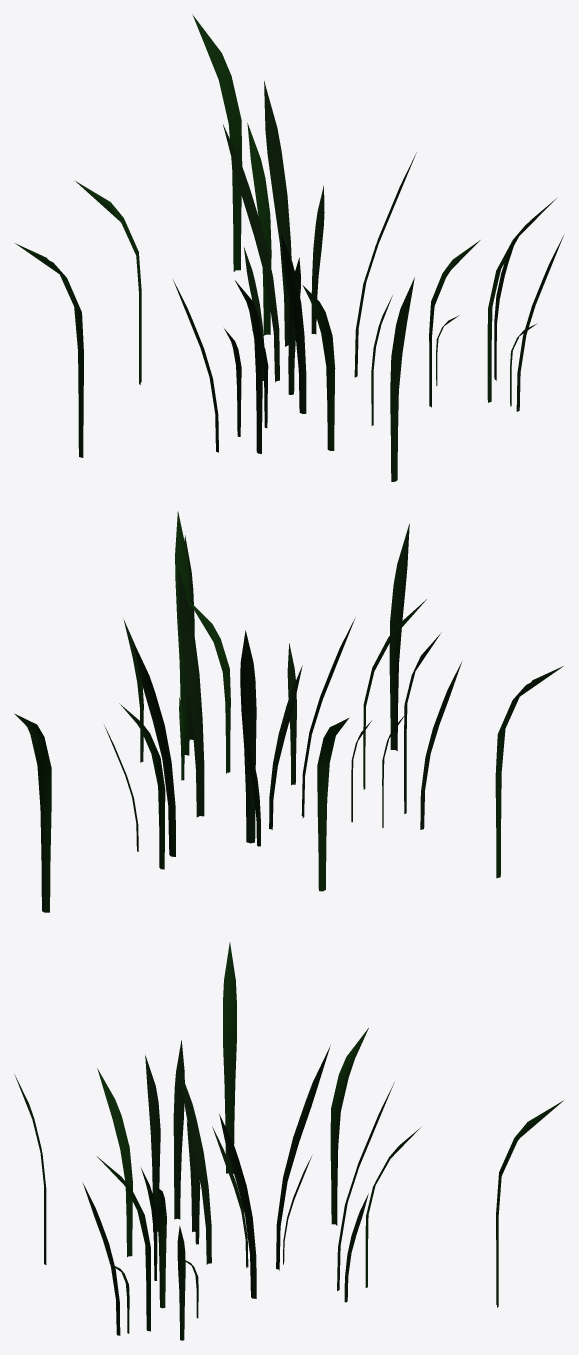
Rendered from Gras3.fbx.
3 views of the same model, one above another, from view 1: azimuth 30°, elevation 25°; view 2: azimuth 150°, elevation 25°; view 3: azimuth 270°, elevation 25° (orthographic). The views are drawn at different scales.
Parts seen in each view (by area): view 1: MASH_ReproMesh1; view 2: MASH_ReproMesh1; view 3: MASH_ReproMesh1.
Boxes of the visible parts, x1,y1,x2,y2 form: MASH_ReproMesh1: (15,14,563,481); MASH_ReproMesh1: (14,511,563,912); MASH_ReproMesh1: (14,942,563,1340).
Size of the model in its own units: 2.56 by 1.25 by 2.91.
